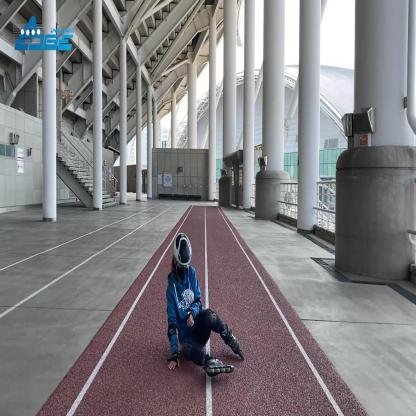Fall_Down: (166, 234, 239, 376)
